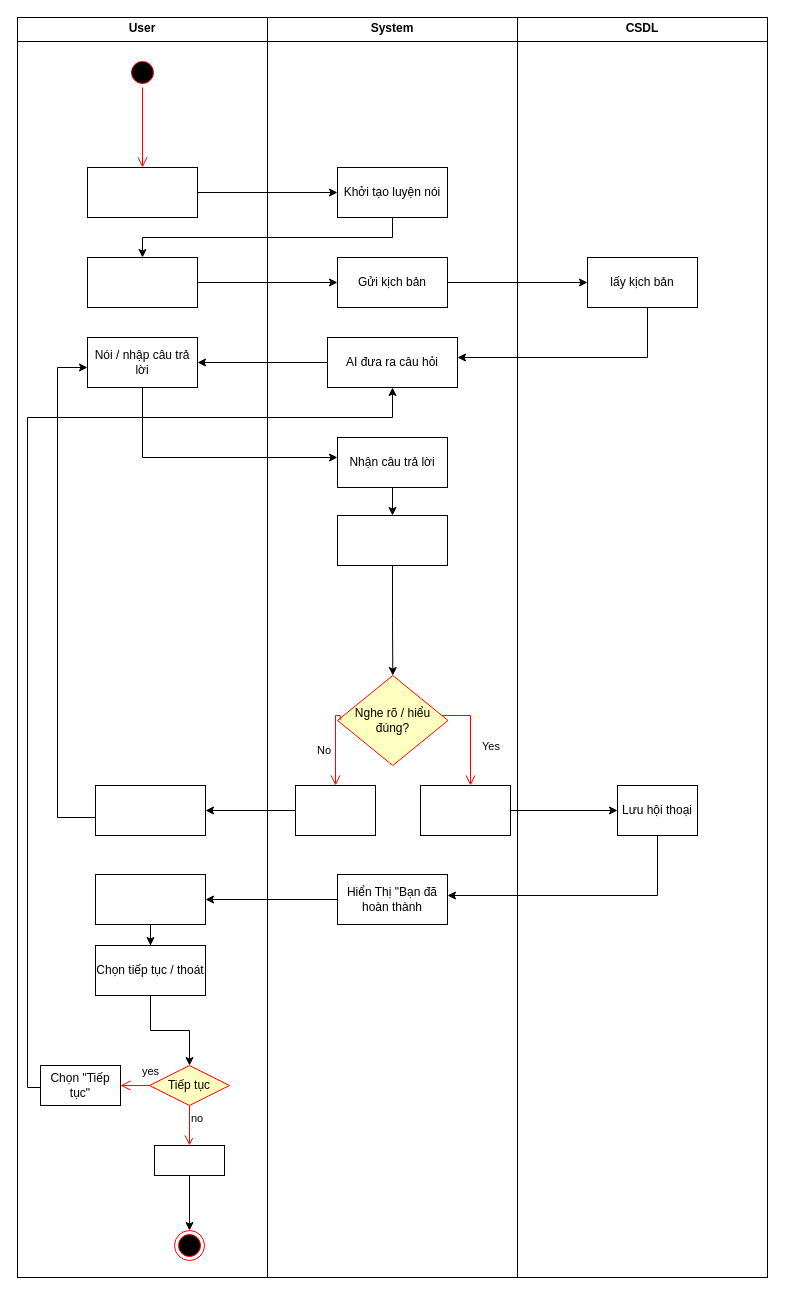
This 785x1295 diagram has some shape labels left out. The shapes that lost their labels are listed below. From the top down, each one's centre as x and y in pixels, then its label:
point 142,192: Chọn chức năng "luyện nói"
point 142,282: Chọn chủ đề
point 392,540: Phân tích
point 150,810: Bấm "Làm lại"
point 335,810: Nhắc nói lại
point 465,810: AI phản hồi + sửa lỗi
point 150,899: Xem kết quả
point 189,1160: Chọn "Thoát"
